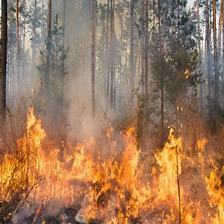fire: (3, 106, 224, 223), (179, 67, 193, 82)
